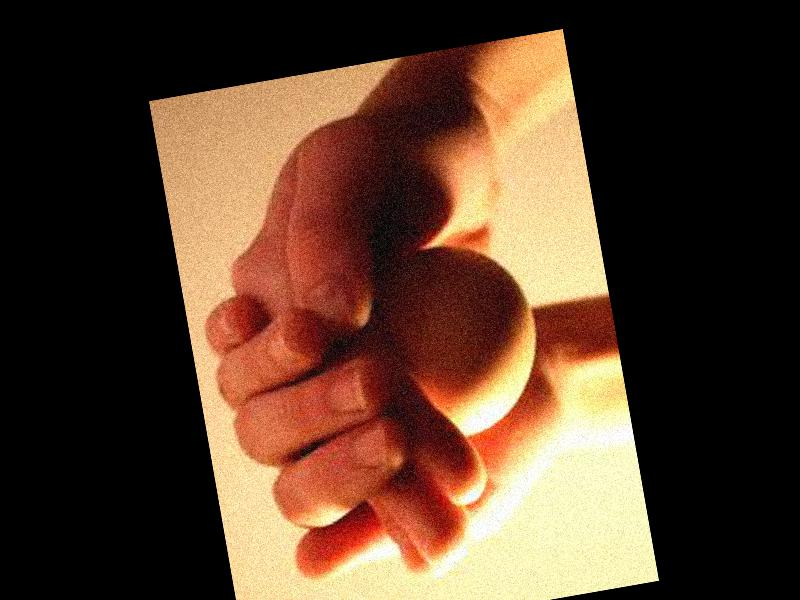Eggs: (373, 230, 551, 446)
